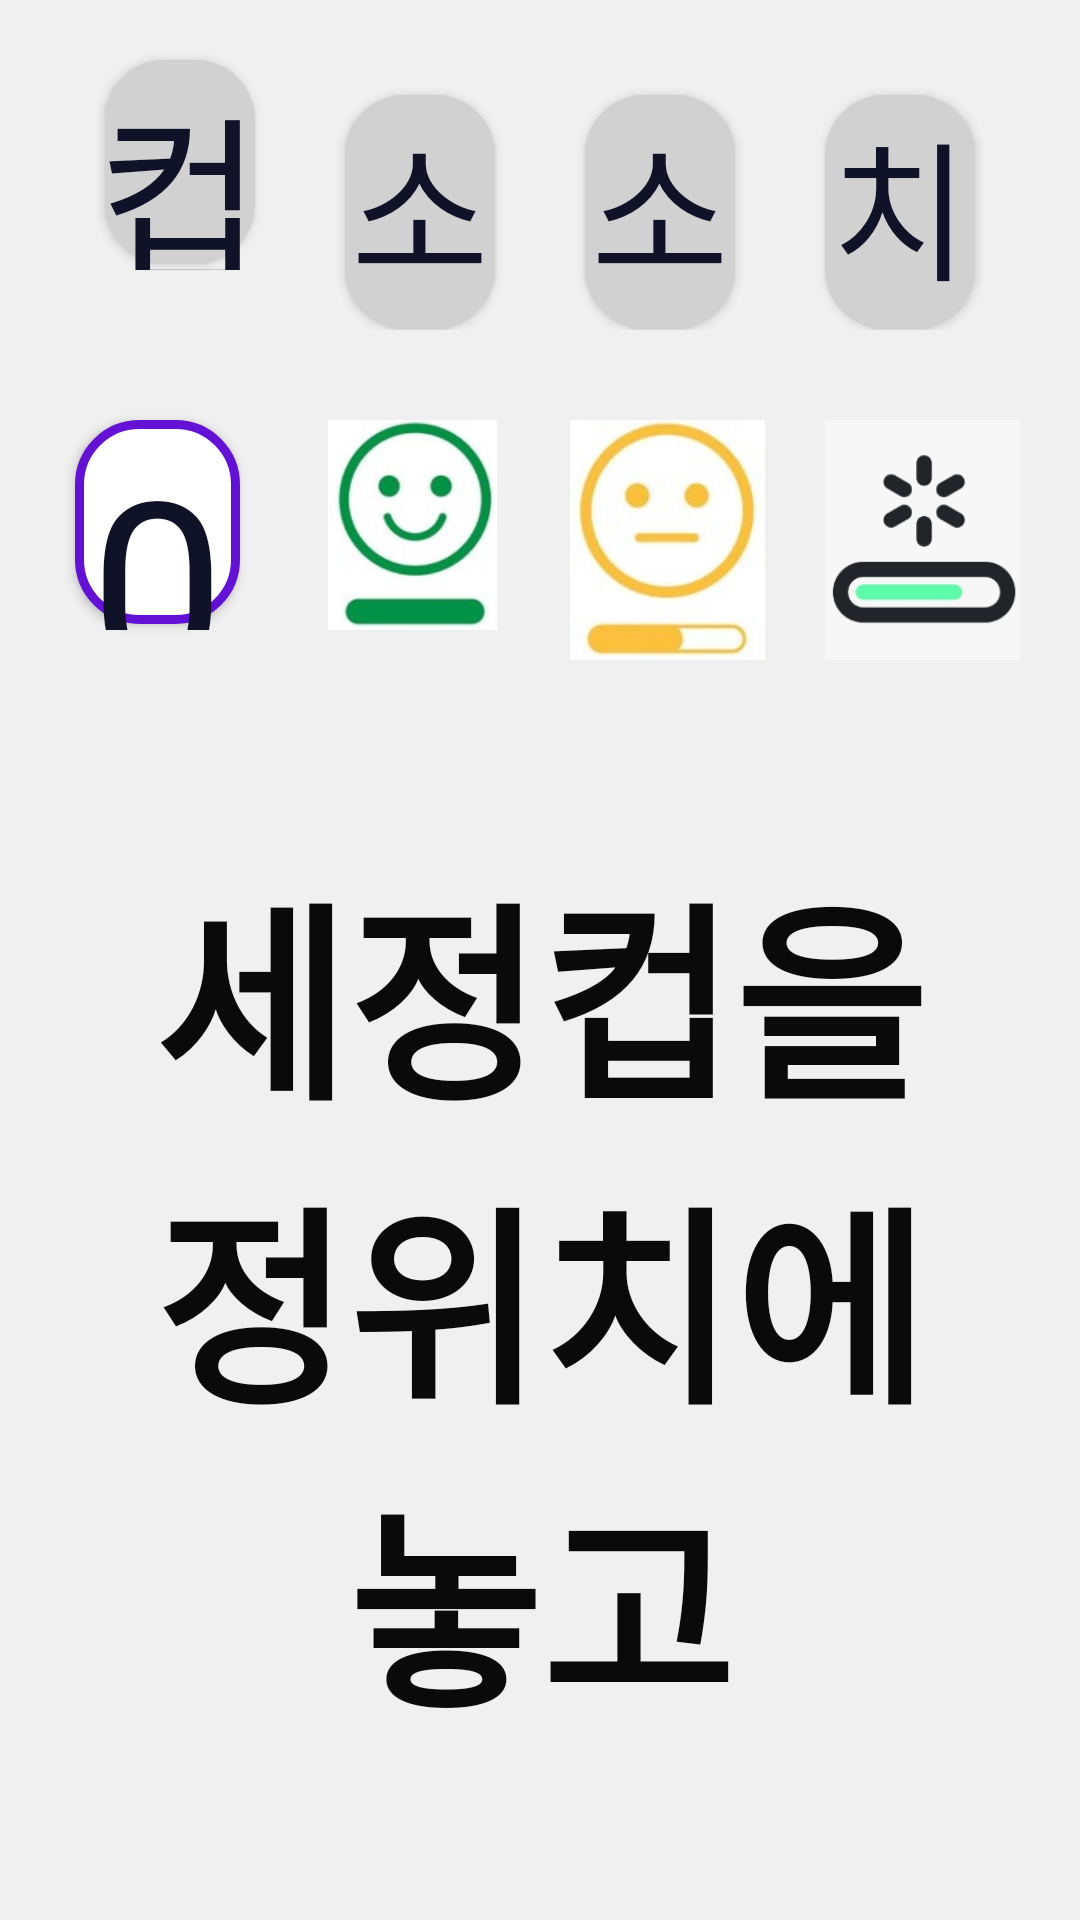

Screen size 1080×1920. Icon name, then its box in pixels as (x1, y1, x2, y2):
goodb: (328, 420, 497, 630)
midb: (570, 420, 765, 660)
uvprog: (832, 455, 1016, 623)
